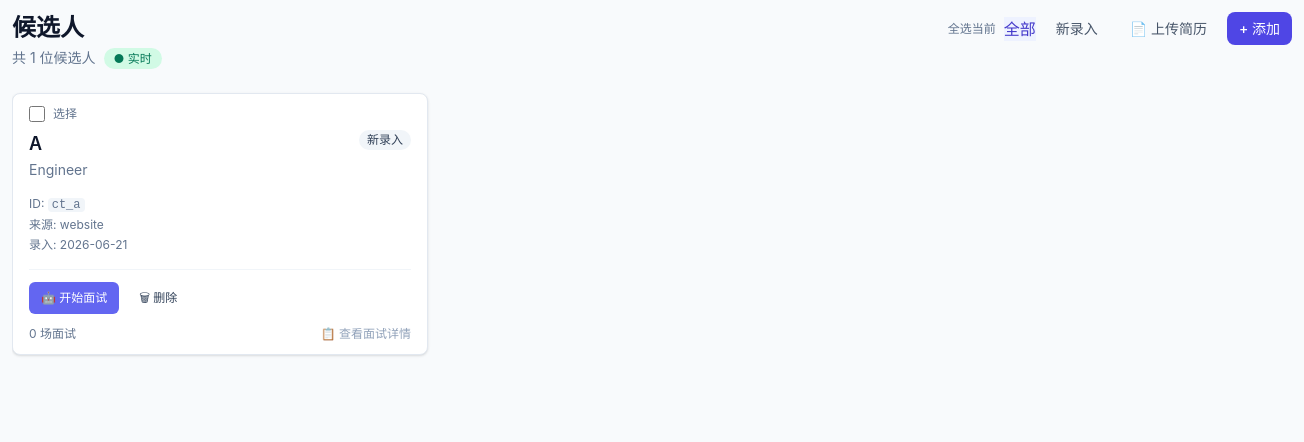
it: Candidates — batch status update + export › renders the batch status select + export button when items are selected
Click the checkbox with test id "candidate-checkbox-ct_a" at (37, 114), box [29,106,45,122]
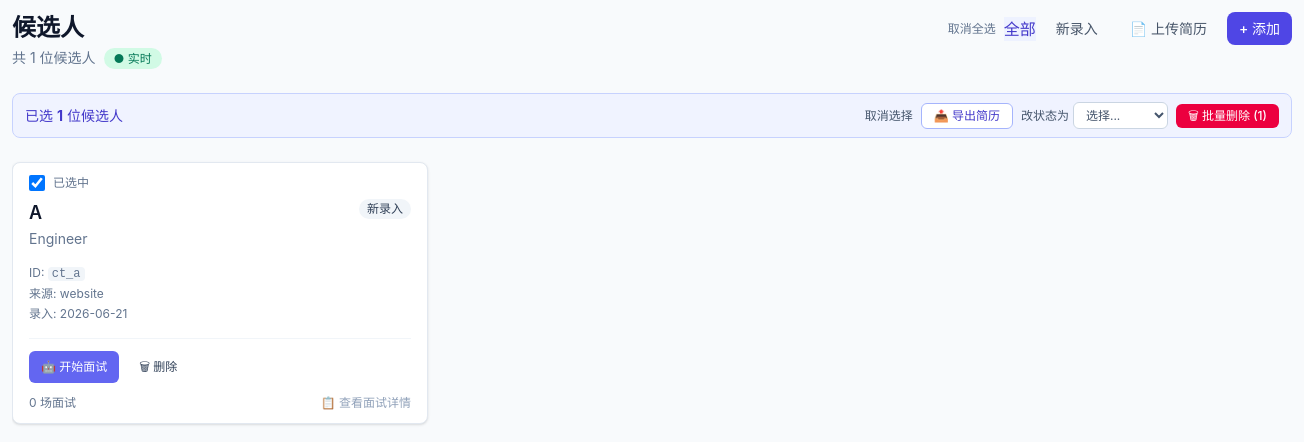
Now the dropdown with test id "batch-status-select" is shown, box [1073,102,1168,129]
Now the button with test id "batch-export" is shown, box [921,103,1013,129]
